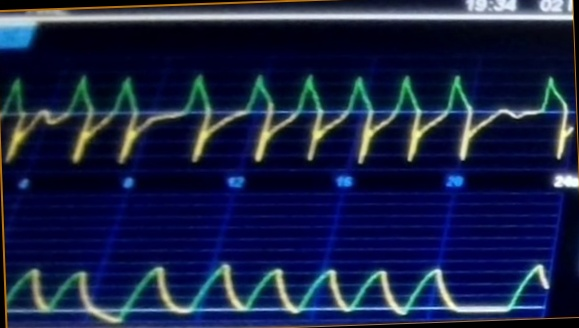Ineffective_effort Flow: (1, 68, 575, 170)
Ineffective_effort Volume: (7, 258, 550, 325)
